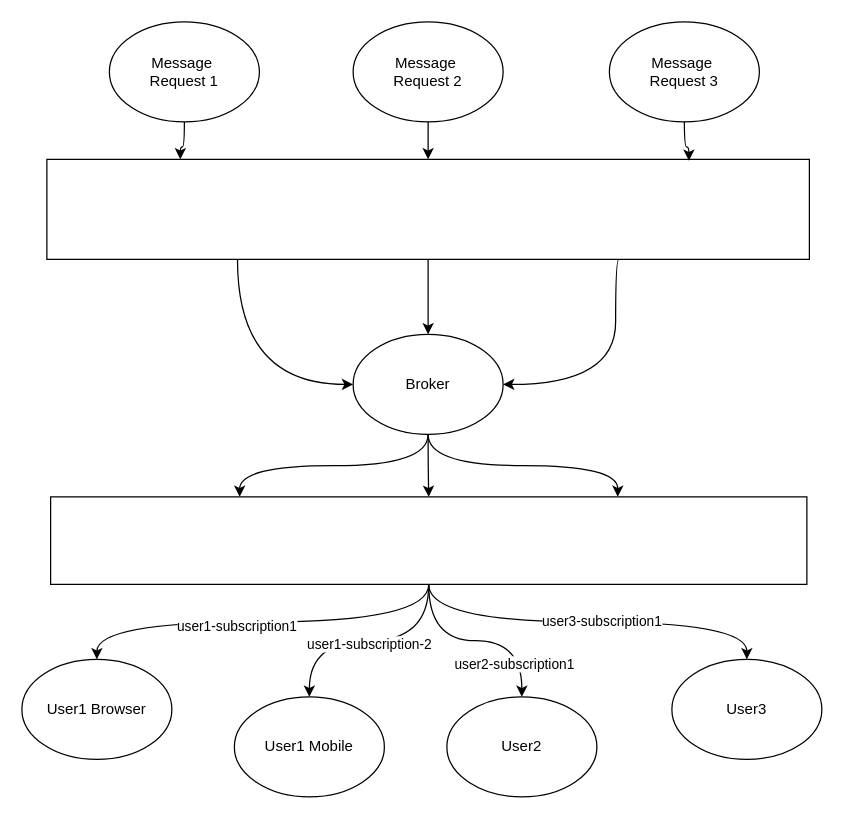
Some shapes in this 844 by 819 pixel diagram are drawn without their labels. The shapes that lost their labels are listed below. From the top down, each one's centre as x and y in pixels, then its label:
At point (427, 208): "API for sending message".
At point (428, 540): "Reactor + Webflux".
